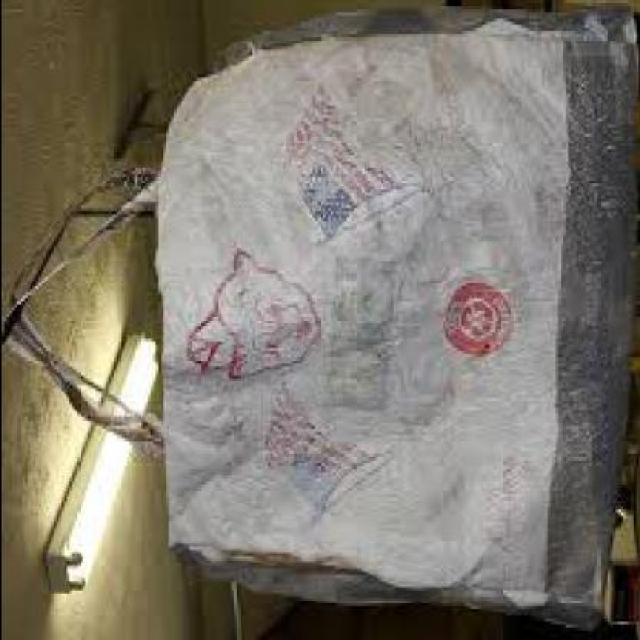PLASTIC: (1, 11, 638, 638)
